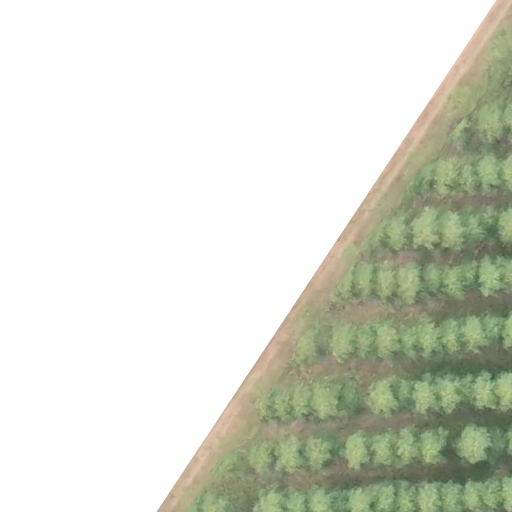eucalipto: (364, 376, 413, 419), (410, 203, 444, 257), (461, 368, 499, 415), (455, 420, 491, 468), (302, 431, 341, 474), (330, 317, 364, 365), (419, 423, 452, 468), (342, 431, 372, 474), (375, 321, 405, 364), (473, 153, 503, 196), (250, 438, 280, 479), (375, 261, 400, 307)
